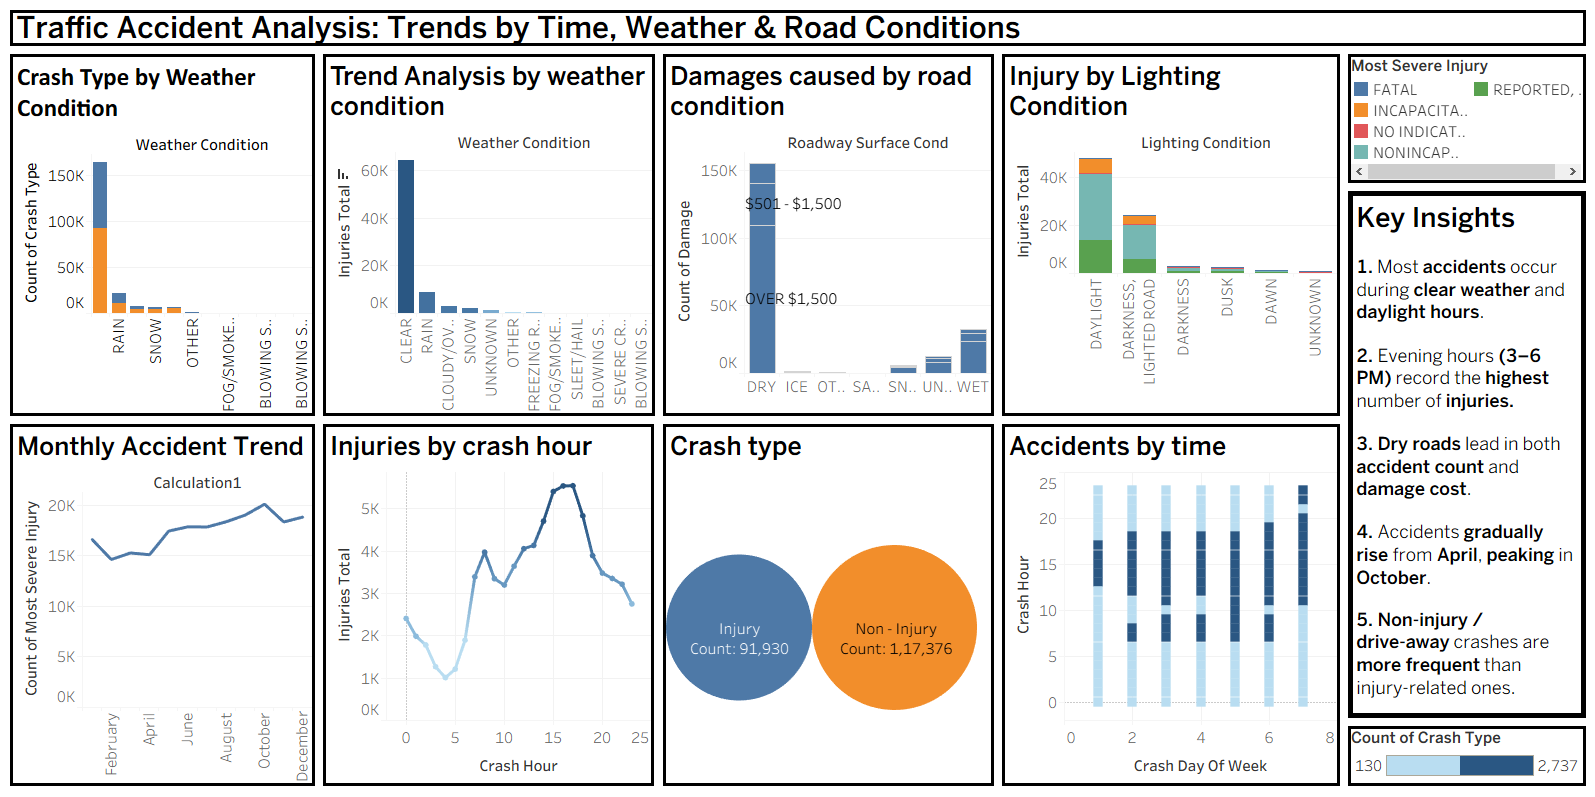

What the dashboard file says about the page in this screenshot:
{"tool":"tableau","page":{"name":"Dashboard 1","canvas":[1600,800],"ordinal":0},"visuals":[{"type":"title","box":[8,8,1584,44]},{"type":"worksheet","title":"Sheet 4","mark":"Automatic","rows":["crash_type"],"cols":["weather_condition"],"box":[8,52,313.2,370]},{"type":"worksheet","title":"Sheet 11","mark":"Automatic","rows":["injuries_total"],"cols":["weather_condition"],"box":[321.2,52,339.8,370]},{"type":"worksheet","title":"Sheet 10","mark":"Automatic","rows":["damage"],"cols":["roadway_surface_cond"],"box":[661,52,339,370]},{"type":"worksheet","title":"Sheet 5","mark":"Automatic","rows":["injuries_total"],"cols":["lighting_condition"],"box":[1000,52,346,370]},{"type":"legend","title":"Sheet 5","param":"[federated.1gdw2rx1szh7d11dsbenm040xopf].[none:most_severe_injury:nk]","box":[1346,52,246,136.9]},{"type":"text","box":[1346,188.9,246,535.1]},{"type":"worksheet","title":"Sheet 8","mark":"Line","rows":["most_severe_injury"],"cols":["Calculation_765049012829765632"],"box":[8,422,313.2,370]},{"type":"worksheet","title":"Sheet 12","mark":"Automatic","rows":["injuries_total"],"cols":["crash_hour"],"box":[321.2,422,339.4,370]},{"type":"worksheet","title":"Sheet 17","mark":"Circle","box":[660.6,422,339.4,370]},{"type":"worksheet","title":"Sheet 13","mark":"Automatic","rows":["crash_hour"],"cols":["crash_day_of_week"],"box":[1000,422,346,370]},{"type":"legend","title":"Sheet 13","param":"[federated.1gdw2rx1szh7d11dsbenm040xopf].[cnt:crash_type:qk]","box":[1346,724,246,68]}]}

Visuals, with their boxes in screenshot pixels (x1, y1, x2, y2), scaled from the page's 1600x800 canvas onto the 1595x797 screenshot:
title: 8,8,1587,52
"Sheet 4" worksheet: 8,52,320,420
"Sheet 11" worksheet: 320,52,659,420
"Sheet 10" worksheet: 659,52,997,420
"Sheet 5" worksheet: 997,52,1342,420
"Sheet 5" legend: 1342,52,1587,188
text: 1342,188,1587,721
"Sheet 8" worksheet (Line marks): 8,420,320,789
"Sheet 12" worksheet: 320,420,659,789
"Sheet 17" worksheet (Circle marks): 659,420,997,789
"Sheet 13" worksheet: 997,420,1342,789
"Sheet 13" legend: 1342,721,1587,789
